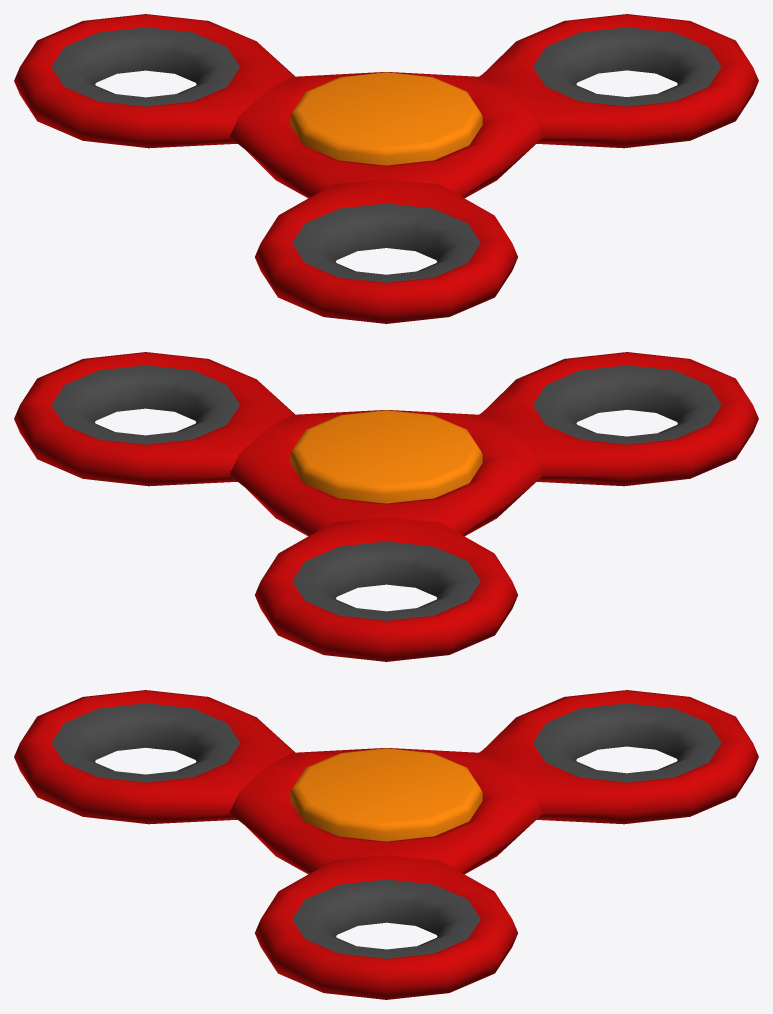
The model's file is Spin_2.fbx.
3 renders of one model, top to bottom at view 1: azimuth 30°, elevation 25°; view 2: azimuth 150°, elevation 25°; view 3: azimuth 270°, elevation 25°, orthographic.
Parts seen in each view (by area): view 1: Spin_2; view 2: Spin_2; view 3: Spin_2.
Part boxes in pixels (<box>): Spin_2: <box>14,14,758,323</box>; Spin_2: <box>14,352,758,661</box>; Spin_2: <box>14,690,758,999</box>.
Bounding box in the file's own units: 0.1569 × 0.0161 × 0.1721.
